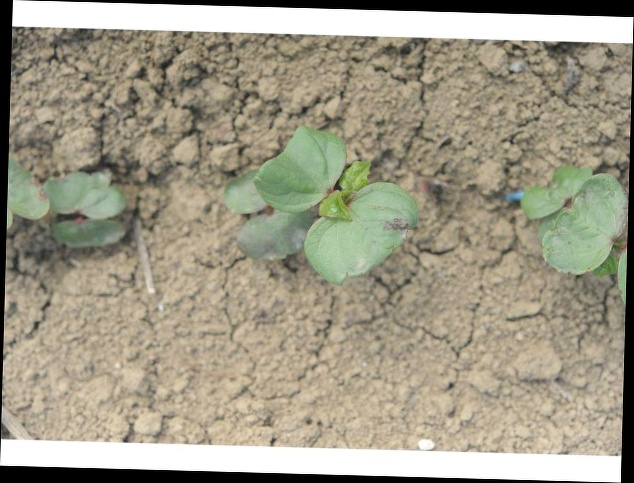cotton: (223, 124, 421, 283), (521, 165, 628, 295), (7, 156, 126, 249)
